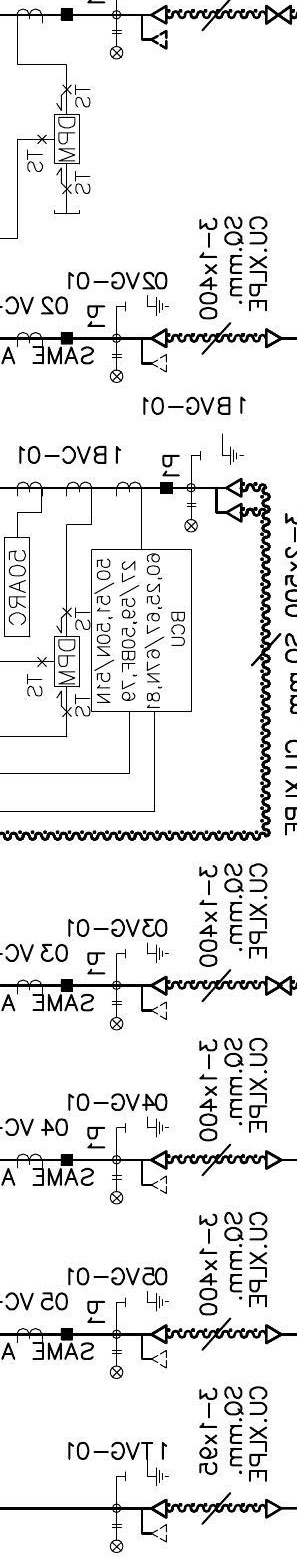22_gs: (198, 433, 244, 467), (123, 1458, 169, 1486), (123, 1115, 169, 1139), (124, 293, 169, 317), (123, 941, 169, 964), (123, 1289, 169, 1312)
22_ll: (109, 29, 124, 60), (109, 353, 124, 384), (184, 502, 199, 533), (109, 1000, 124, 1031), (109, 1174, 124, 1205), (109, 1349, 124, 1380), (109, 1523, 124, 1554)
DPM: (53, 112, 81, 166), (53, 635, 81, 688)
terminator_double: (214, 477, 243, 524)
terminator_single: (264, 327, 283, 350), (264, 1498, 282, 1520), (264, 1323, 282, 1345), (264, 1149, 282, 1171)
terminator_splicing_kits: (264, 4, 292, 25), (264, 975, 292, 996)
terminator_w_future: (139, 4, 169, 51), (139, 975, 169, 1022), (139, 1322, 169, 1369), (139, 1497, 169, 1544), (140, 327, 169, 374), (139, 1149, 168, 1196)
